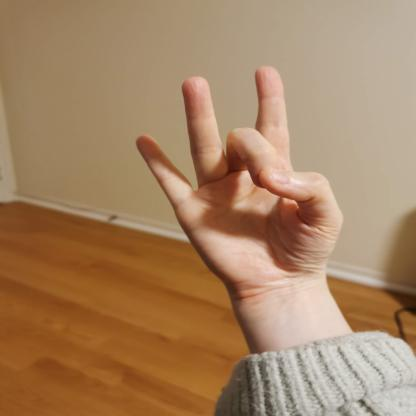eight: (129, 60, 354, 304)
